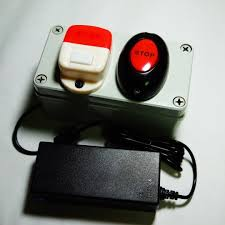bell: (114, 29, 172, 104)
